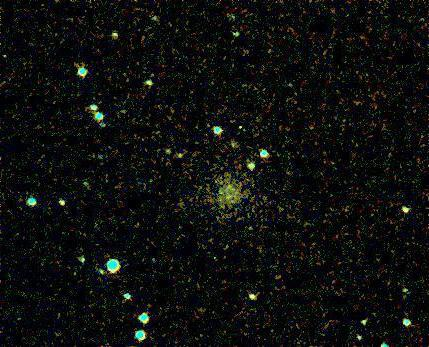star: (229, 108, 259, 138)
